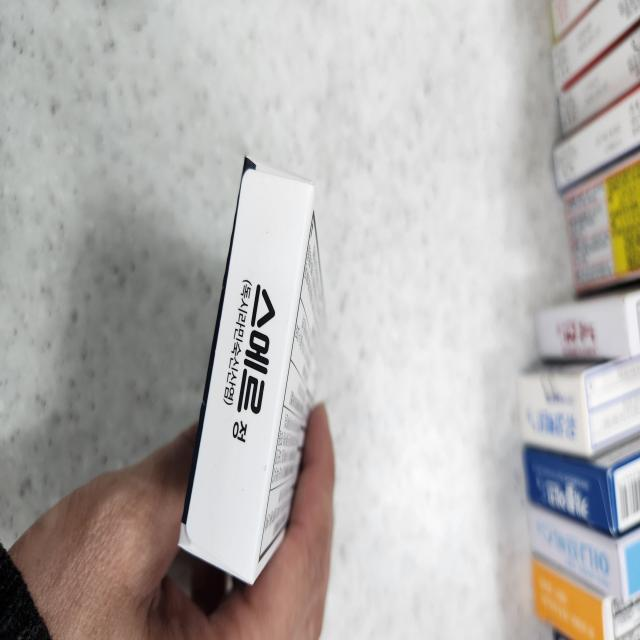box: (180, 157, 326, 584), (535, 284, 640, 361)
